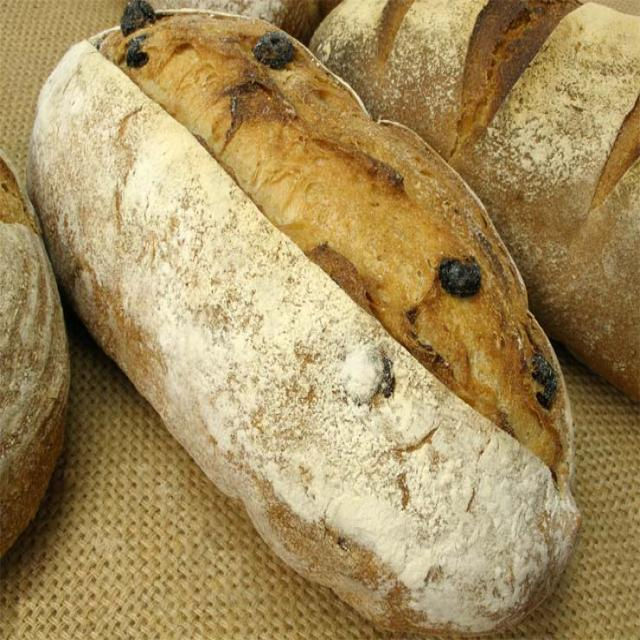面包点心: (0, 0, 616, 640)
